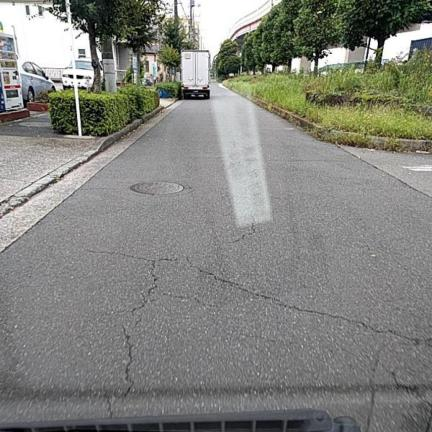Road: (0, 85, 431, 431)
